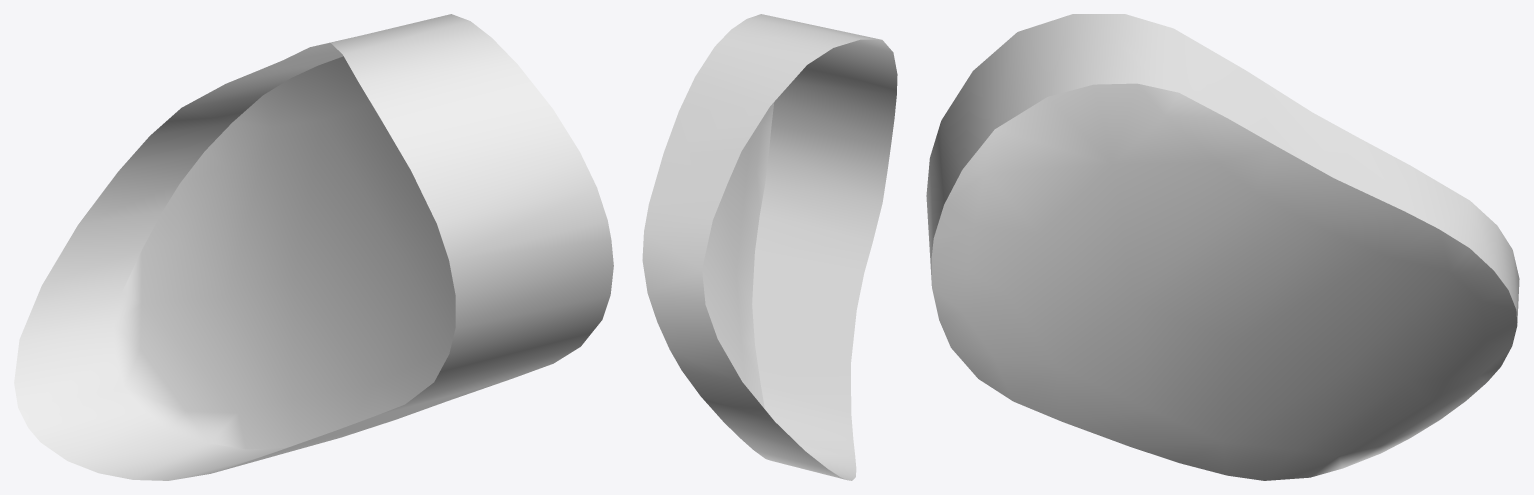
3 views of the same model, side by side, from view 1: azimuth 30°, elevation 25°; view 2: azimuth 150°, elevation 25°; view 3: azimuth 270°, elevation 25° (orthographic). The views are drawn at different scales.
Size of the model in its own units: 0.0152 by 0.0195 by 0.0223.
Materials: 1 (1 with a texture image).
